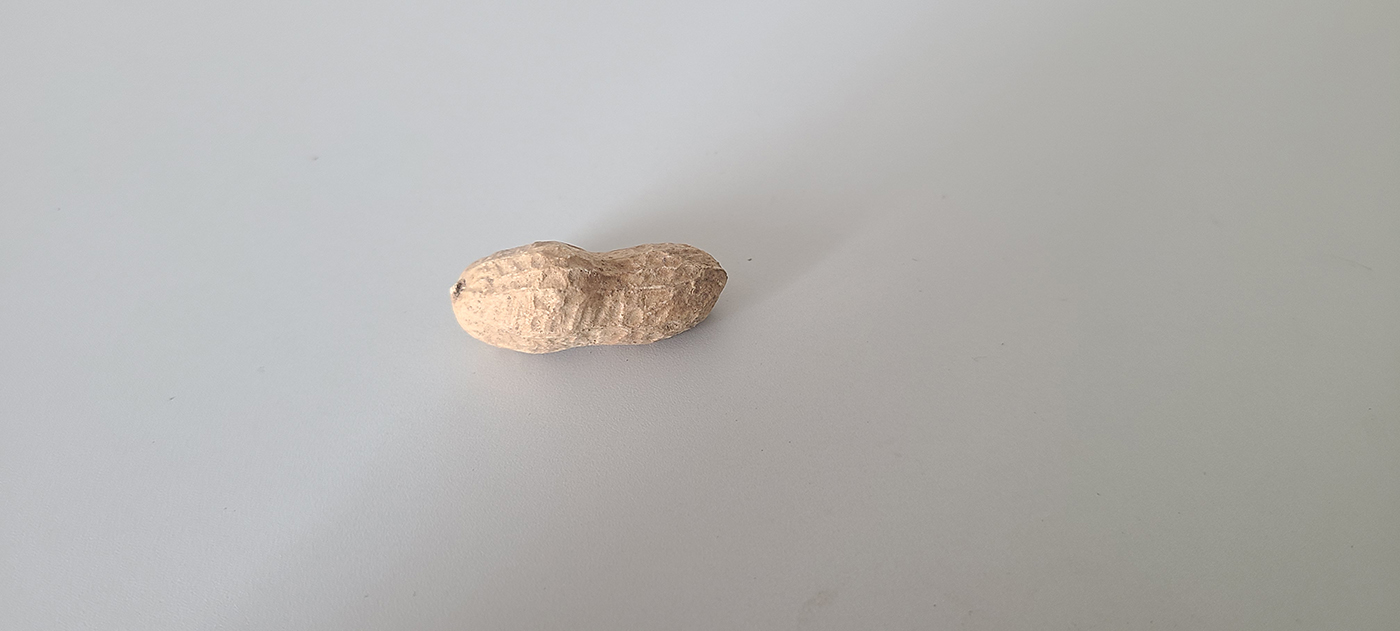h: (444, 236, 730, 354)
